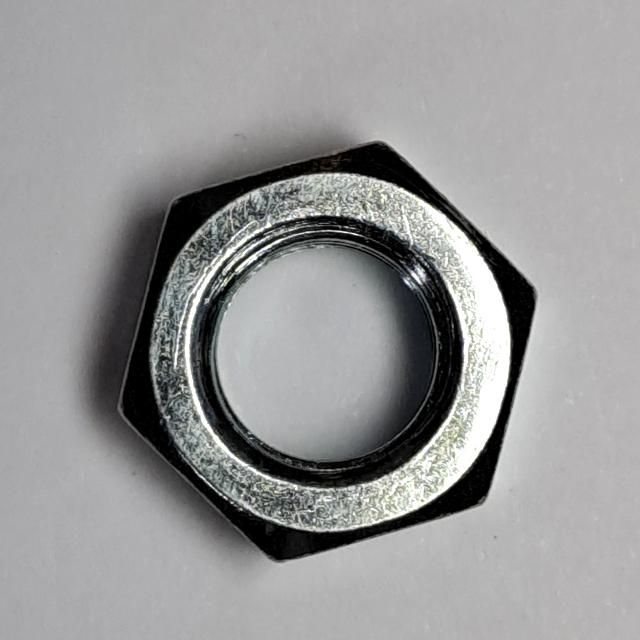Excellent: (98, 126, 548, 576)
